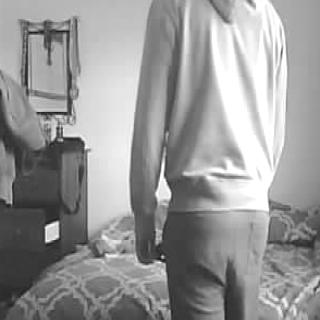Gray Sweatpants: (160, 211, 270, 320)
Yellow Hoodie: (131, 0, 292, 212)
